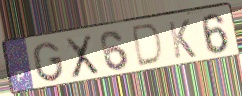6: (200, 11, 232, 57), (99, 29, 131, 74)
D: (131, 22, 165, 69)
G: (31, 40, 66, 84)
K: (166, 18, 198, 61)
X: (63, 32, 101, 81)
